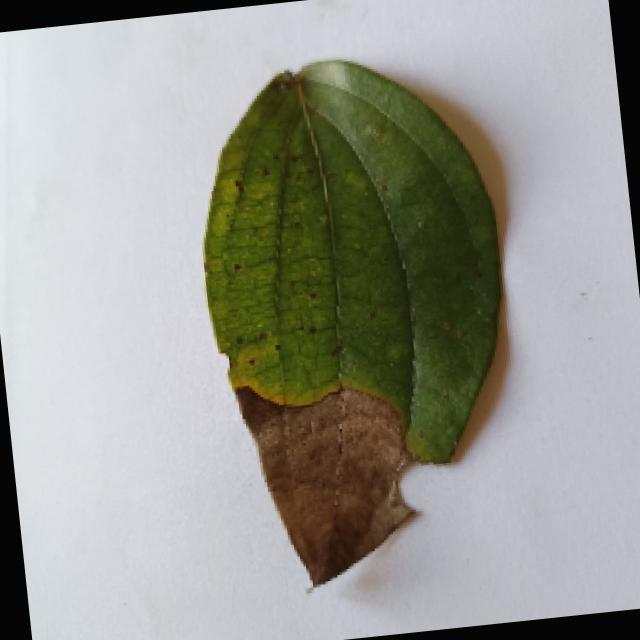footrot: (179, 46, 542, 604)
